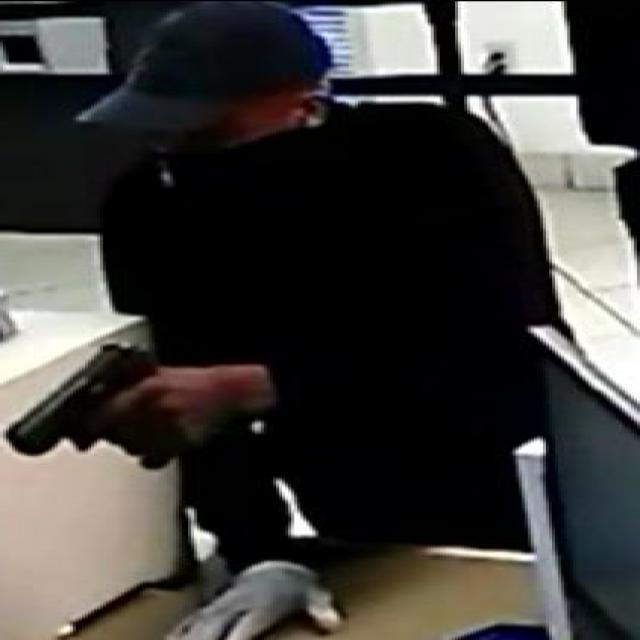Gun: (9, 333, 173, 468)
